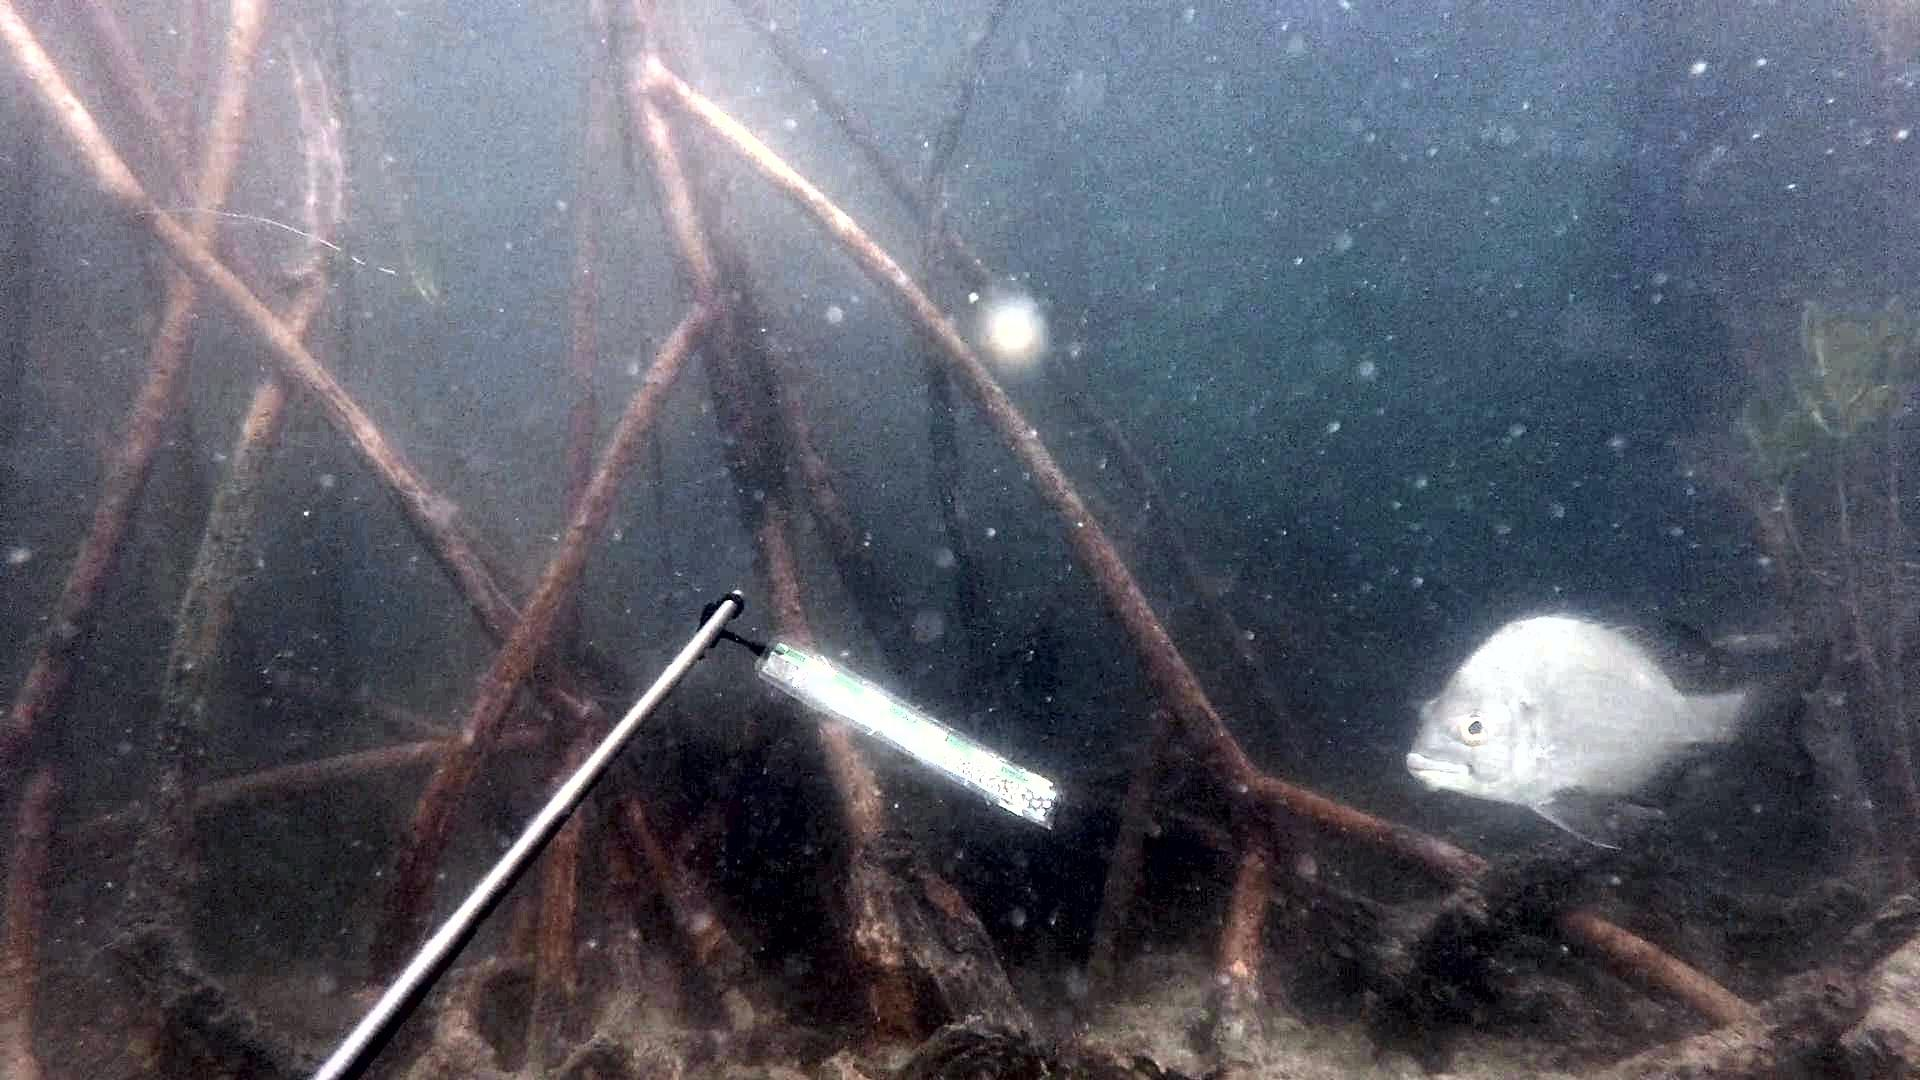acanthopagrus palmaris: (1391, 596, 1845, 861)
